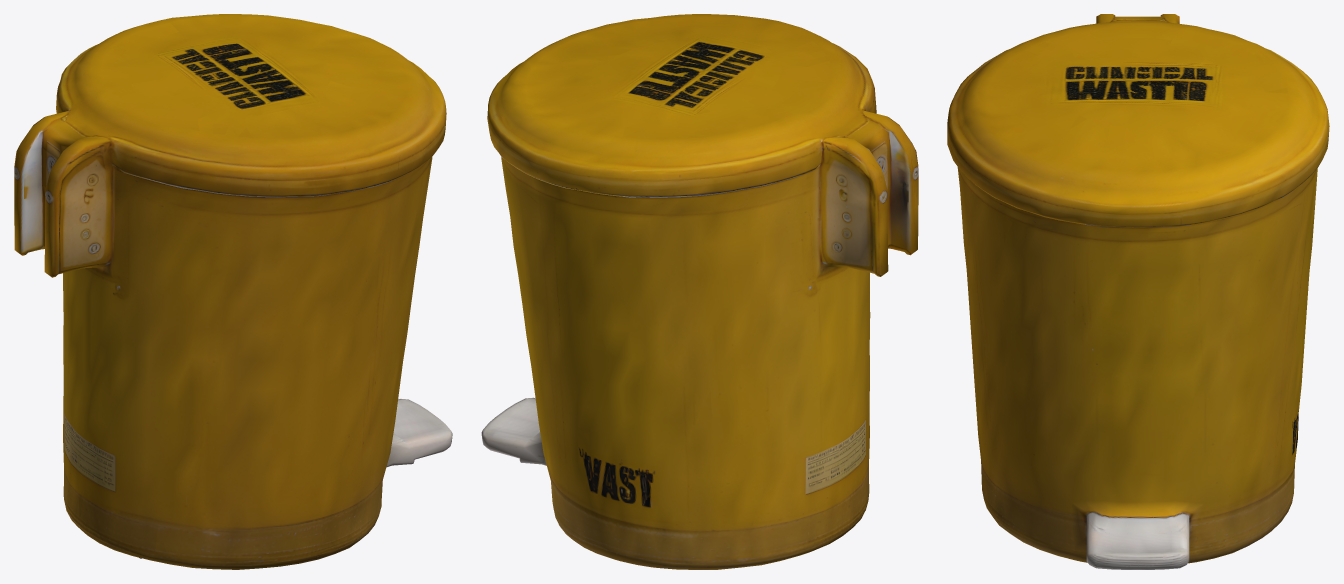
The model's file is dustbin2.fbx.
The picture shows the model from 3 angles, left to right: view 1: azimuth 30°, elevation 25°; view 2: azimuth 150°, elevation 25°; view 3: azimuth 270°, elevation 25°; orthographic projection. The views are drawn at different scales.
Parts seen in each view (by area): view 1: tripo_node_fb723f3c; view 2: tripo_node_fb723f3c; view 3: tripo_node_fb723f3c.
Part boxes in pixels (<box>): tripo_node_fb723f3c: <box>14,14,452,569</box>; tripo_node_fb723f3c: <box>481,14,918,569</box>; tripo_node_fb723f3c: <box>947,14,1329,569</box>.
Bounding box in the file's own units: 88.4 × 96.8 × 74.23.
Materials: 1 (1 with a texture image).
